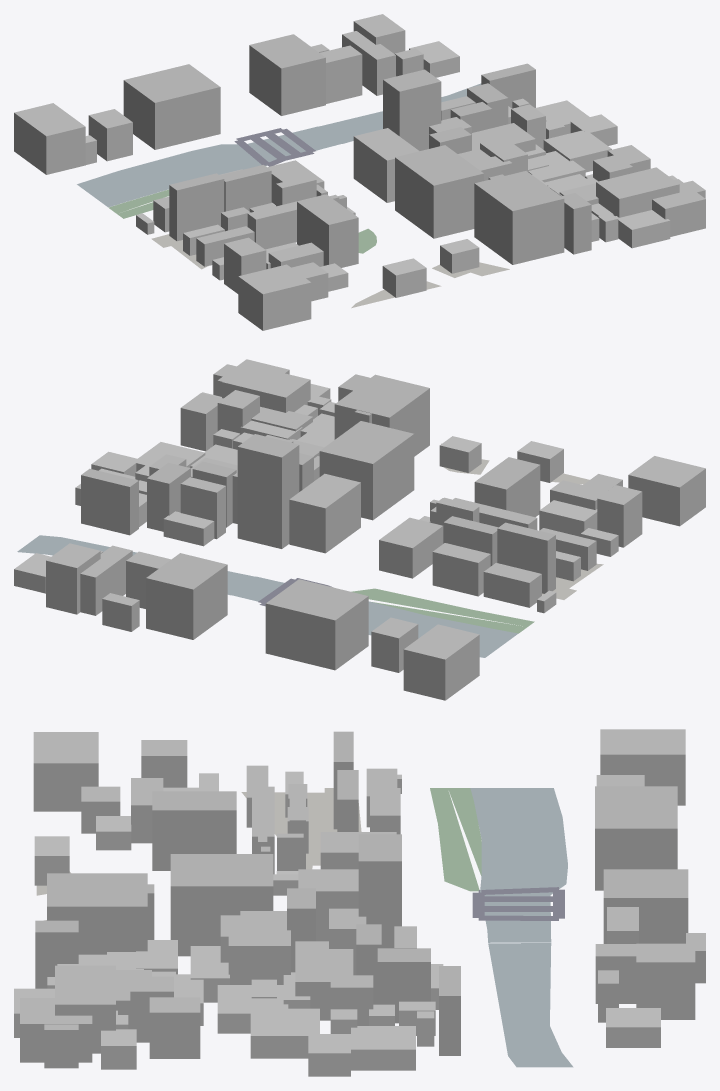
Rendered from 121_98_mid.glb.
3 views of the same model, one above another, from view 1: azimuth 30°, elevation 25°; view 2: azimuth 150°, elevation 25°; view 3: azimuth 270°, elevation 25° (orthographic). The views are drawn at different scales.
Bounding box in the file's own units: 531 × 95.65 × 524.
